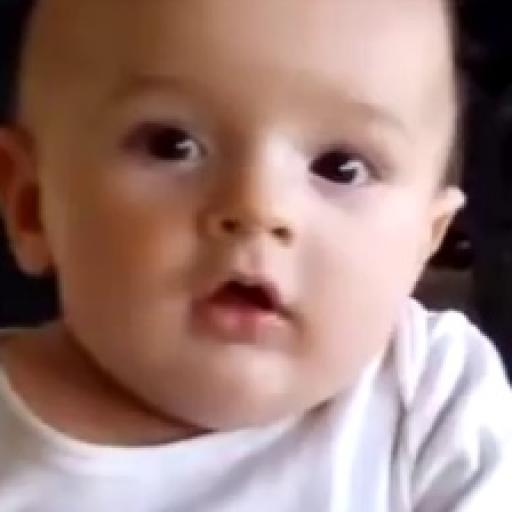Autism: (19, 2, 480, 463)
